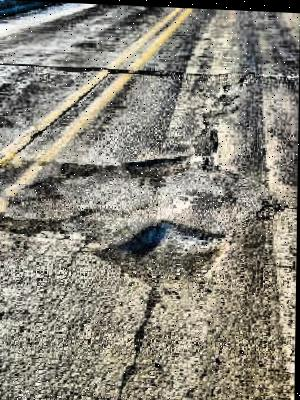pothole: (98, 215, 234, 289), (122, 150, 192, 178), (0, 210, 66, 239), (68, 61, 161, 77), (58, 158, 103, 178)
